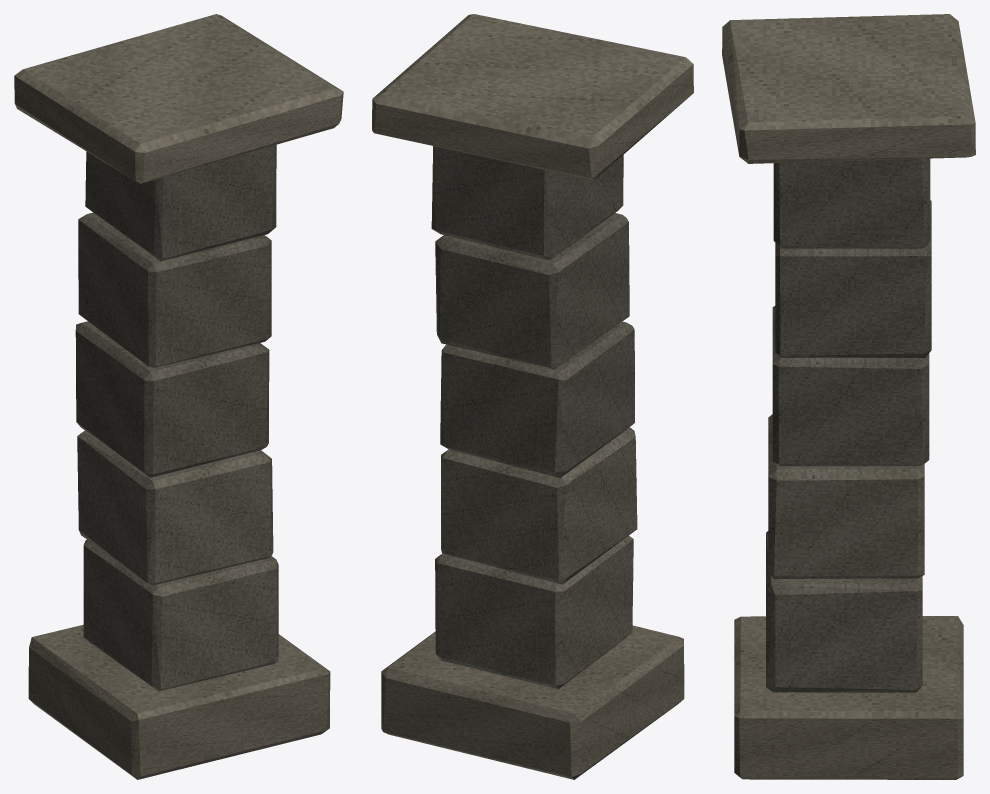
The model's file is env_ruin_pillars_04_chipped_cap.glb.
3 views of the same model, side by side, from view 1: azimuth 30°, elevation 25°; view 2: azimuth 150°, elevation 25°; view 3: azimuth 270°, elevation 25° (orthographic). The views are drawn at different scales.
Size of the model in its own units: 0.7197 by 1.92 by 0.6642.
1 material, 1 textured.
